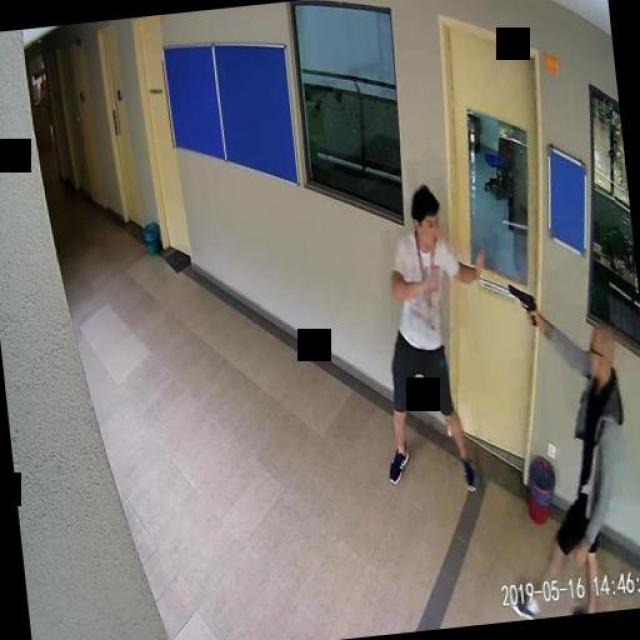gun: (507, 280, 538, 328)
